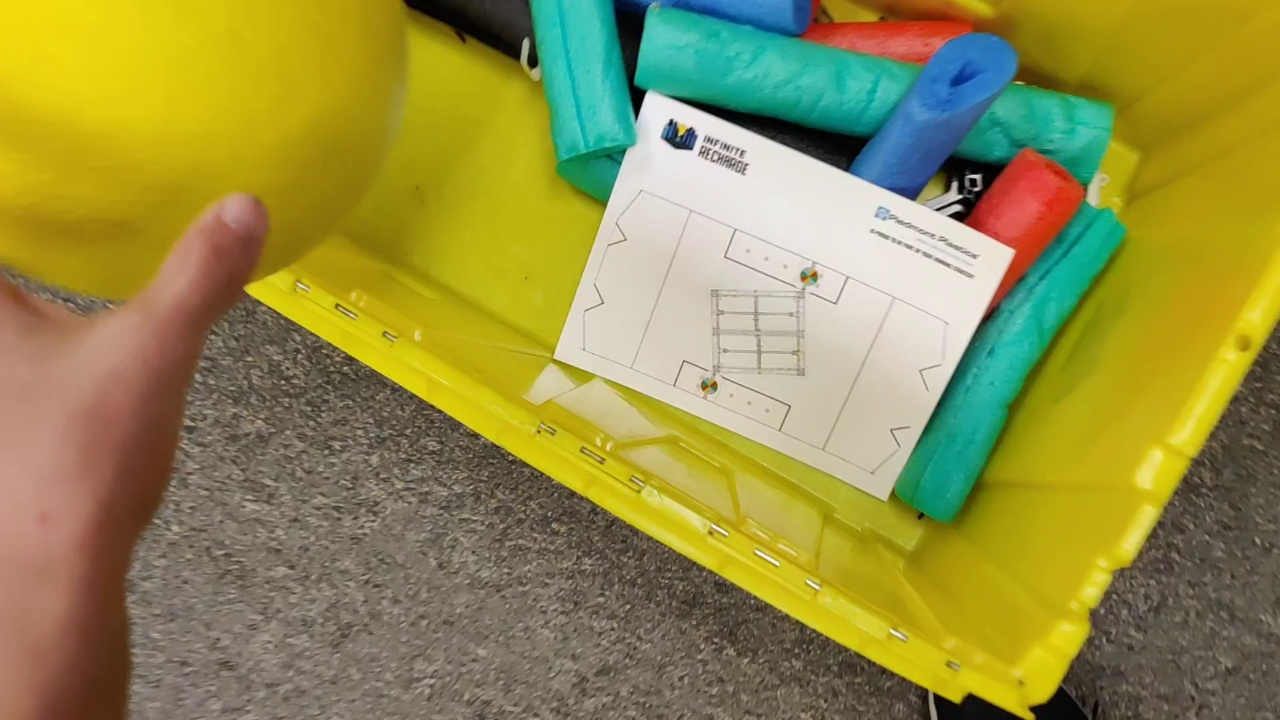Ball: (1, 1, 405, 307)
